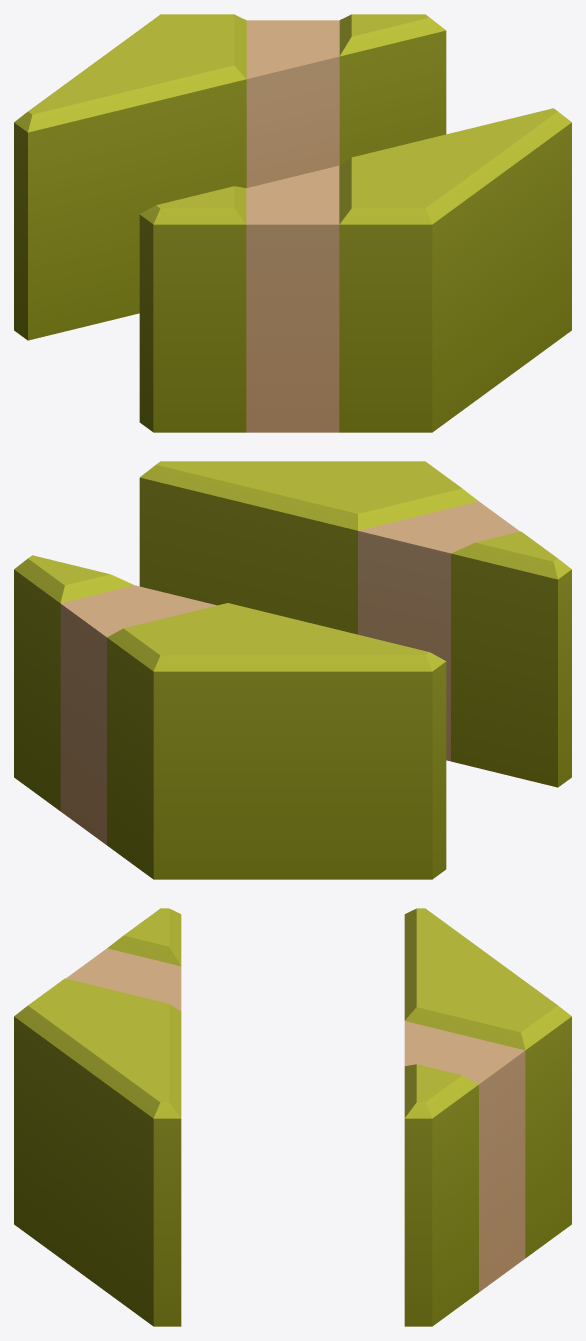
Rendered from hex_river_crossing_B_waterless.glb.
3 views of the same model, one above another, from view 1: azimuth 30°, elevation 25°; view 2: azimuth 150°, elevation 25°; view 3: azimuth 270°, elevation 25° (orthographic).
Parts seen in each view (by area): view 1: hex_river_crossing_B_waterless; view 2: hex_river_crossing_B_waterless; view 3: hex_river_crossing_B_waterless.
Boxes of the visible parts, x1=… form: hex_river_crossing_B_waterless: x1=14, y1=14, x2=571, y2=432; hex_river_crossing_B_waterless: x1=14, y1=461, x2=571, y2=879; hex_river_crossing_B_waterless: x1=14, y1=908, x2=571, y2=1326.
Size of the model in its own units: 2 by 1 by 2.31.
1 material, 1 textured.
